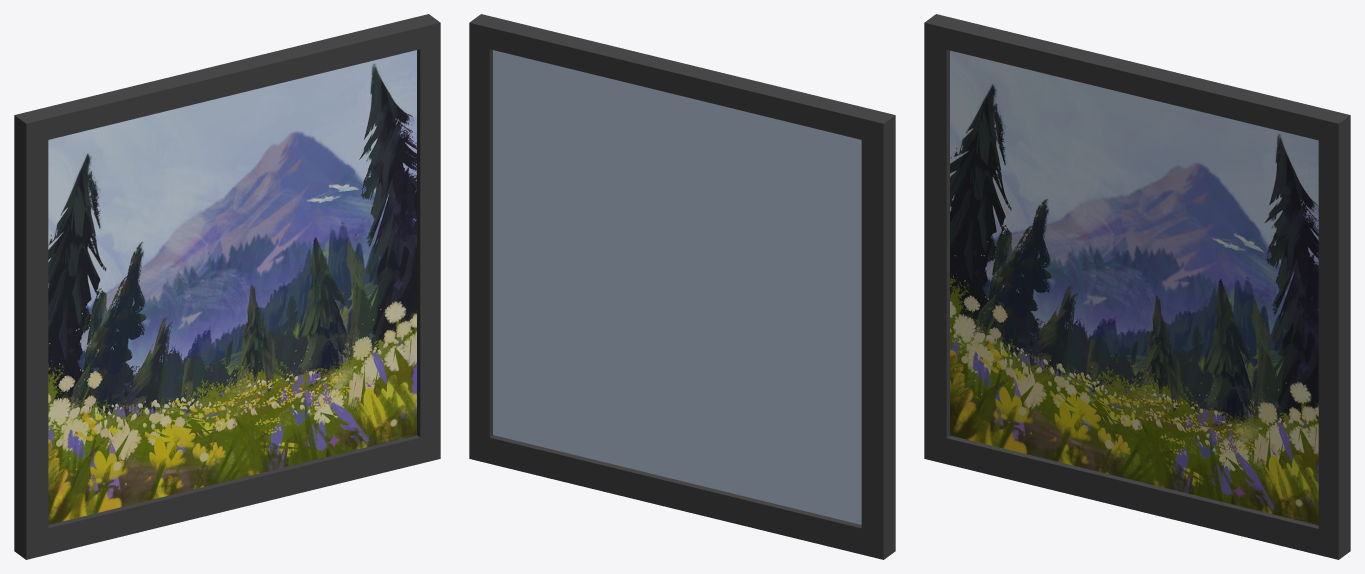
File: Frame_1_2.gltf
3 renders of one model, left to right at view 1: azimuth 30°, elevation 25°; view 2: azimuth 150°, elevation 25°; view 3: azimuth 330°, elevation 25°, orthographic.
Parts seen in each view (by area): view 1: Frame_1_2; view 2: Frame_1_2; view 3: Frame_1_2.
Boxes of the visible parts, x1=… form: Frame_1_2: x1=14, y1=14, x2=440, y2=559; Frame_1_2: x1=469, y1=14, x2=895, y2=559; Frame_1_2: x1=924, y1=14, x2=1350, y2=559.
Size of the model in its own units: 4.71 by 4.74 by 0.2341.
Materials: 1 (1 with a texture image).
